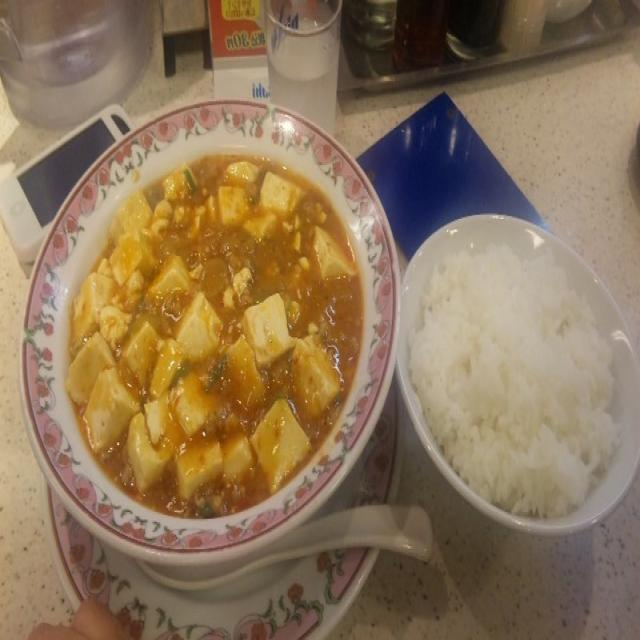Rice: (404, 246, 620, 516)
